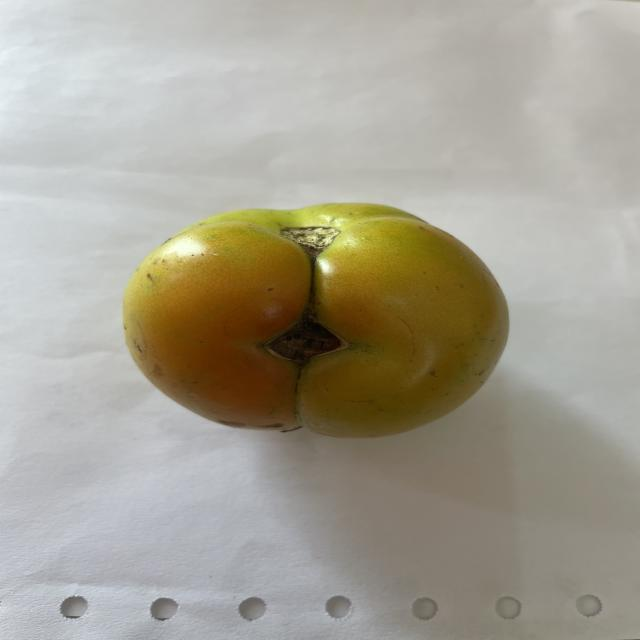fruitworm_bore: (264, 241, 340, 401)
